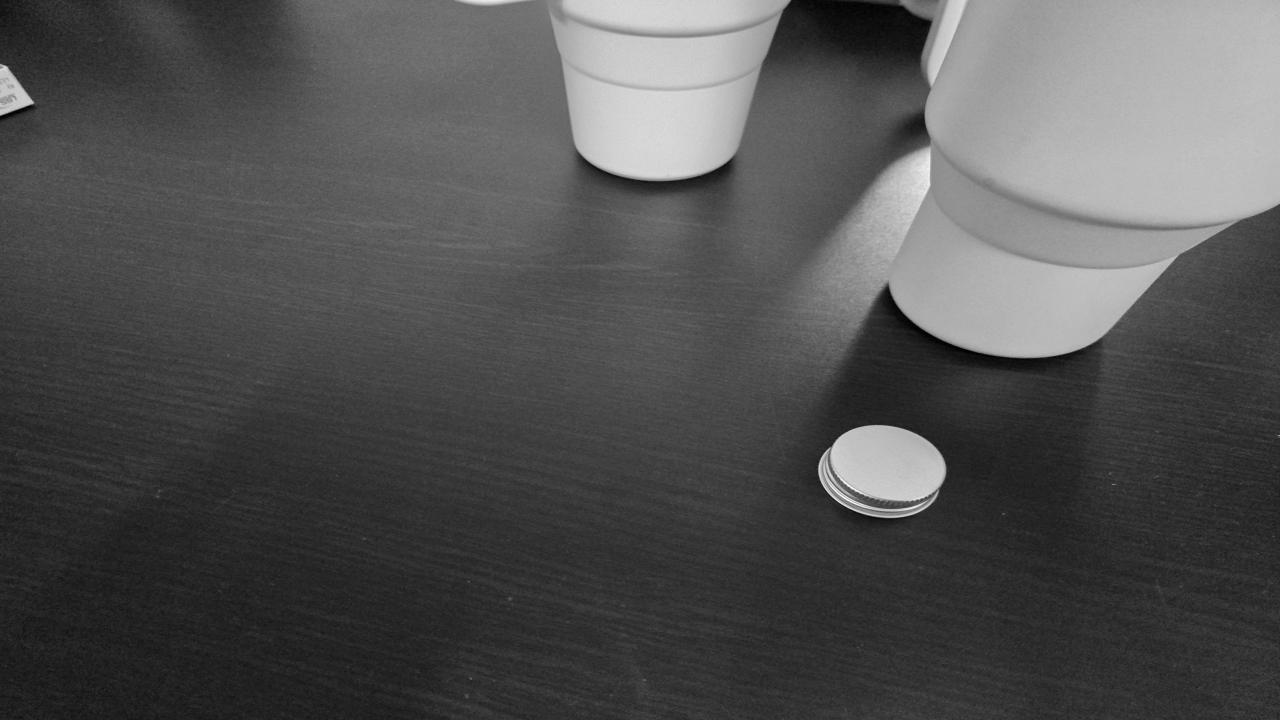bottle_cap: (819, 427, 949, 517)
